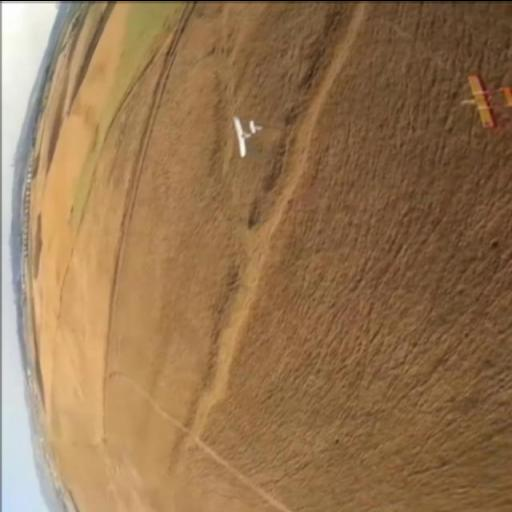uav: (458, 70, 512, 128), (228, 112, 262, 156)
